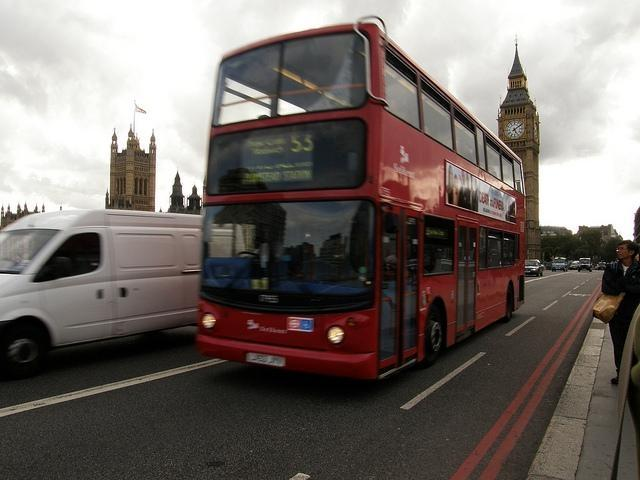bus: (184, 14, 528, 383)
car: (525, 258, 544, 276), (551, 257, 569, 272), (578, 258, 592, 272), (597, 263, 607, 270), (570, 262, 578, 270), (594, 265, 598, 270)
truck: (0, 205, 203, 371), (578, 258, 592, 272)
